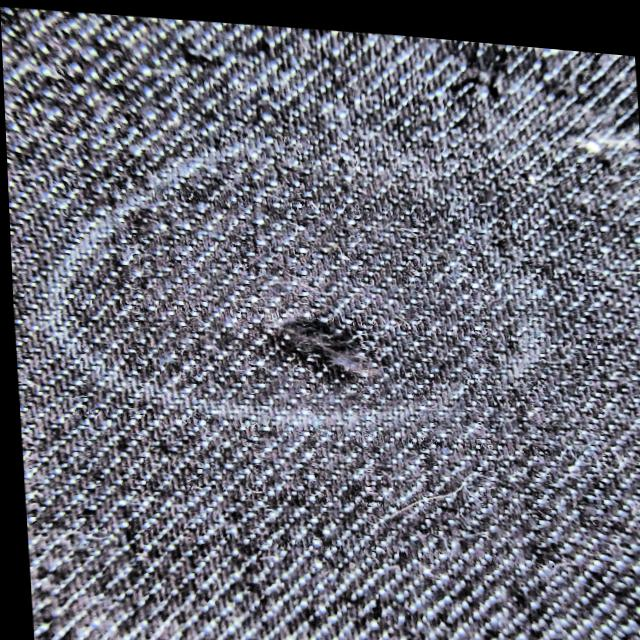Hole: (225, 290, 421, 395)
